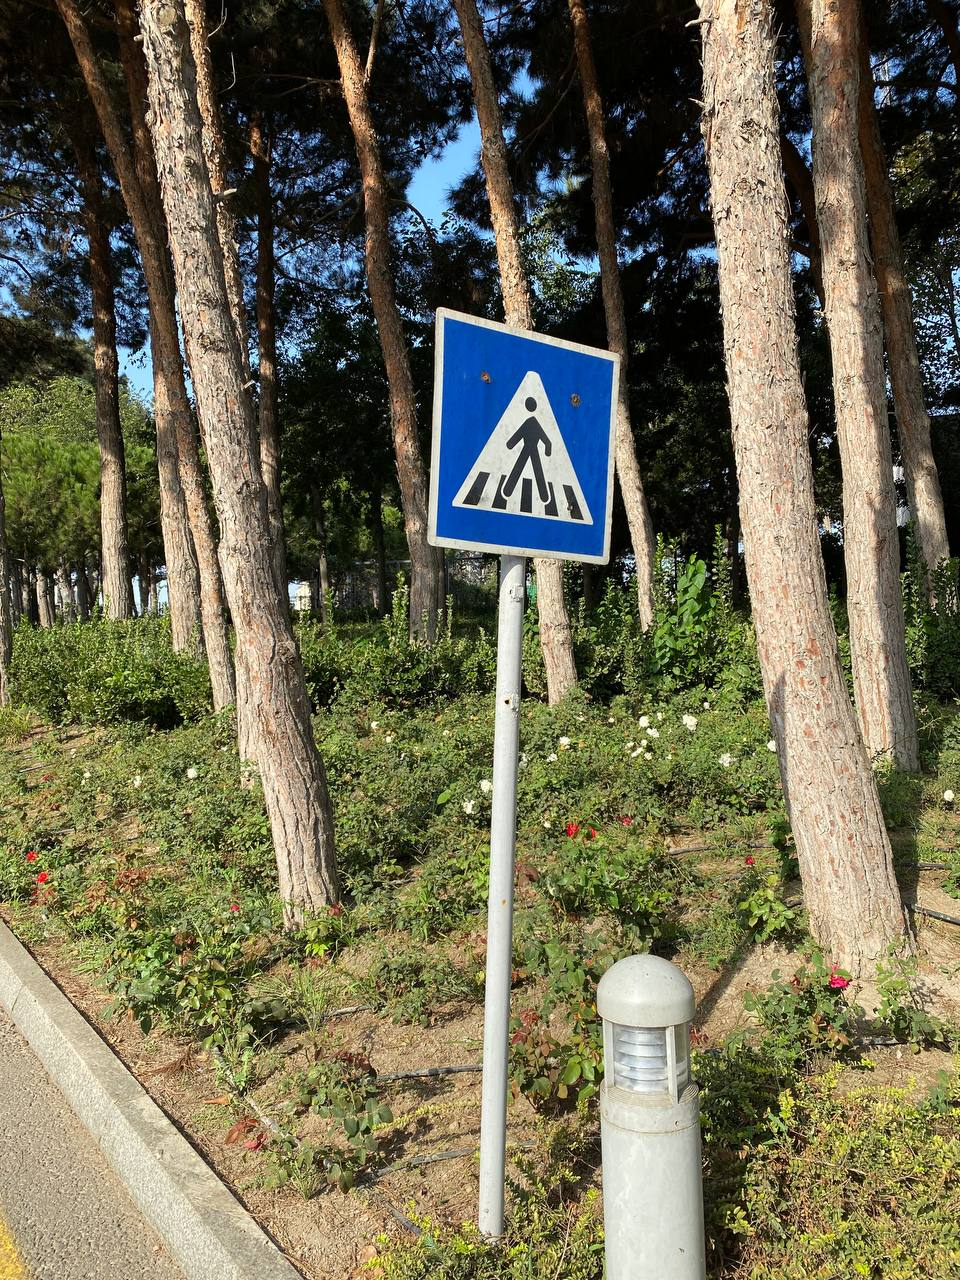Pedestrian Crossing: (430, 305, 620, 567)
